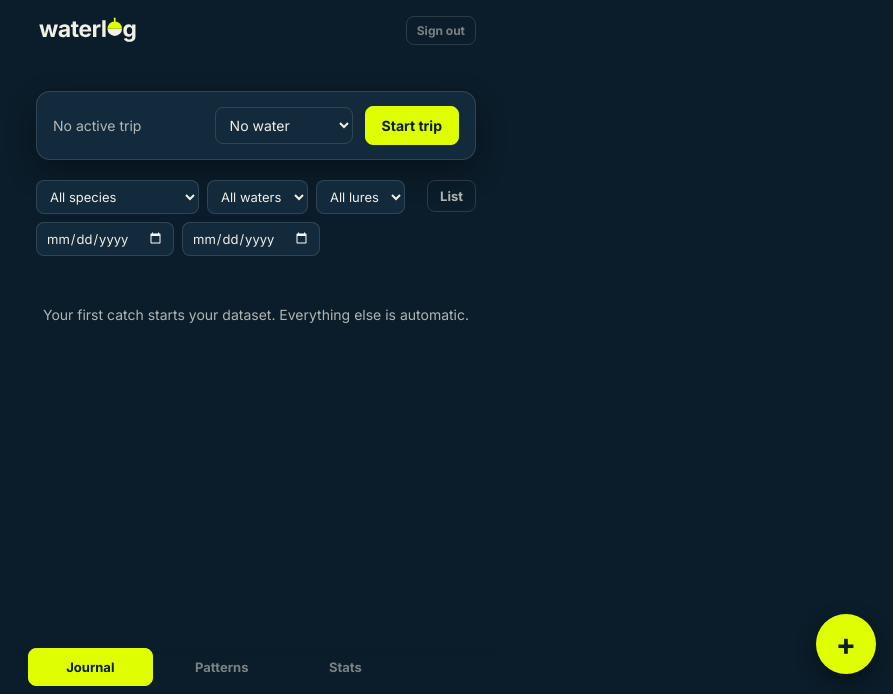
Test: App session gate › switches between Journal and Stats
Check: the navigation bar named "Main" is shown, box [16,640,496,693]
Check: the element named "Catch journal" is shown, box [36,180,476,373]
Click the button "Stats": (345, 667) [291,648,400,686]
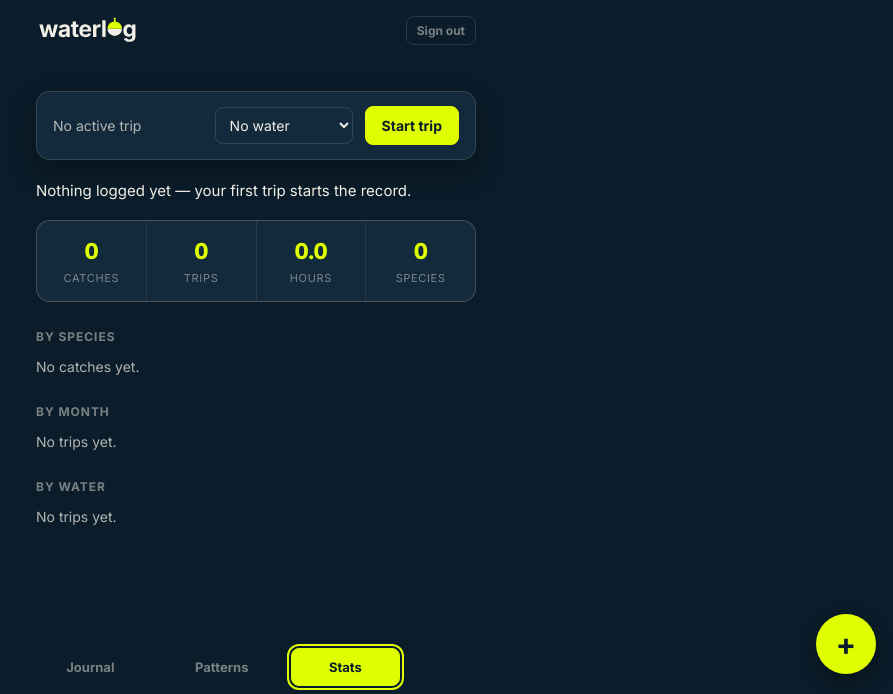
Check: the element "Catch journal" is gone
